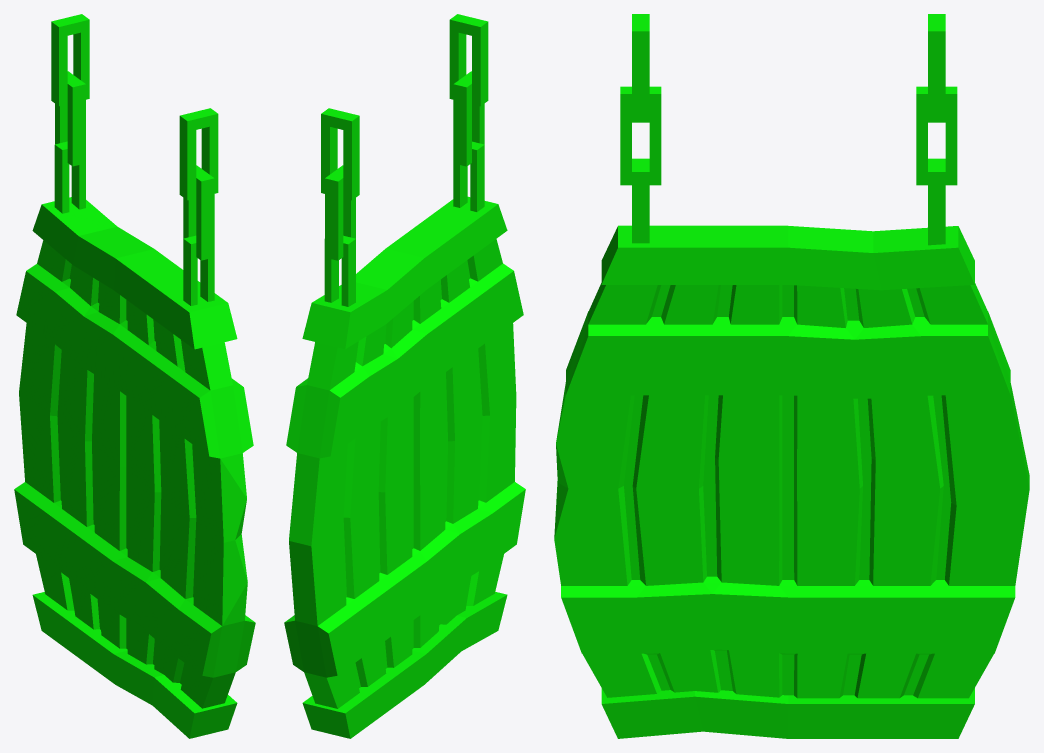
Rendered from SM_Signboard_Pub_A_Fantasy.fbx.
The picture shows the model from 3 angles, left to right: view 1: azimuth 30°, elevation 25°; view 2: azimuth 150°, elevation 25°; view 3: azimuth 270°, elevation 25°; orthographic projection. The views are drawn at different scales.
Visible parts, largest first — view 1: singboard-pub-a-fantasy; view 2: singboard-pub-a-fantasy; view 3: singboard-pub-a-fantasy.
Boxes of the visible parts, x1=… form: singboard-pub-a-fantasy: x1=14, y1=14, x2=255, y2=738; singboard-pub-a-fantasy: x1=284, y1=14, x2=525, y2=738; singboard-pub-a-fantasy: x1=554, y1=14, x2=1029, y2=738.
Size of the model in its own units: 0.0967 by 1.27 by 0.7776.
